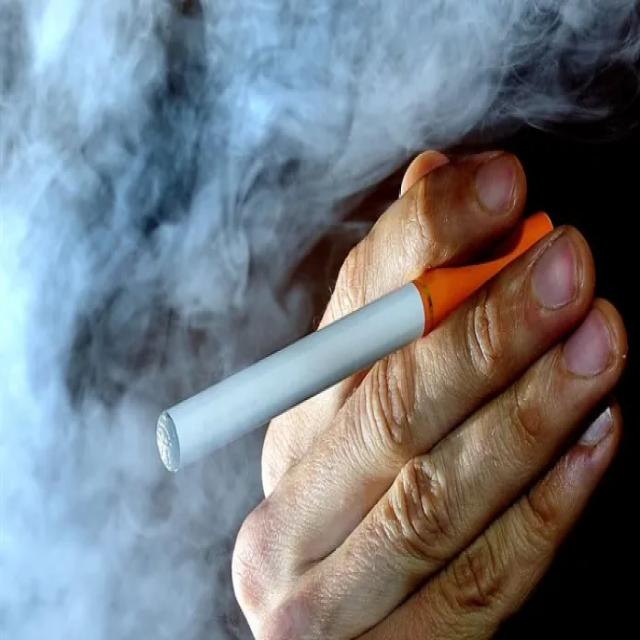Cigarette: (157, 211, 556, 473)
Hand: (207, 139, 630, 632)
